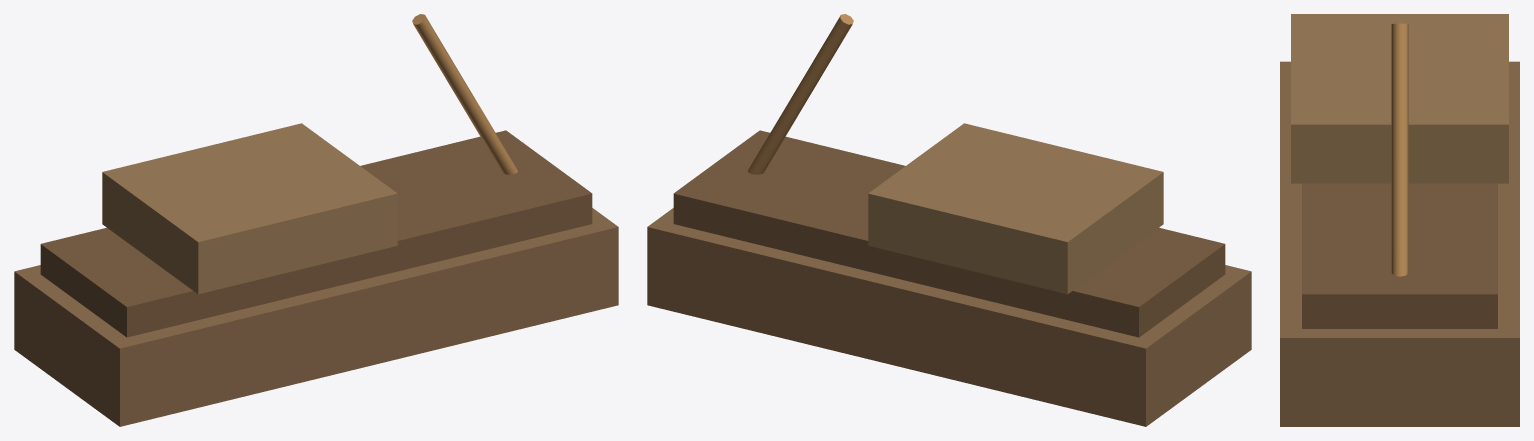
The model's file is huaiyang_prop_boat.glb.
3 renders of one model, left to right at view 1: azimuth 30°, elevation 25°; view 2: azimuth 150°, elevation 25°; view 3: azimuth 270°, elevation 25°, orthographic. The views are drawn at different scales.
Bounding box in the file's own units: 0.3 × 0.1646 × 0.11.
